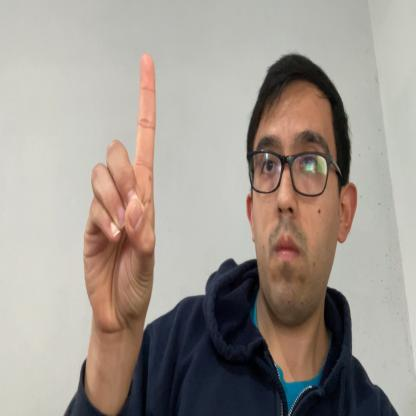D: (83, 53, 155, 326)
